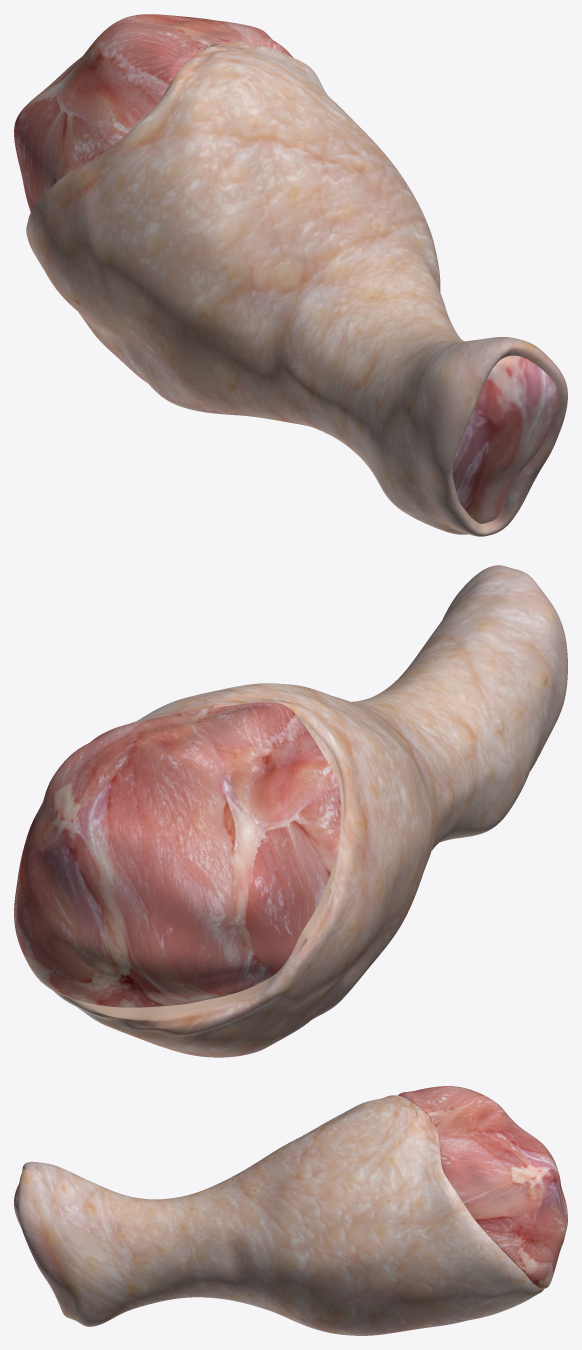
The model's file is drumette.glb.
The picture shows the model from 3 angles, top to bottom: view 1: azimuth 30°, elevation 25°; view 2: azimuth 150°, elevation 25°; view 3: azimuth 270°, elevation 25°; orthographic projection. The views are drawn at different scales.
Visible parts, largest first — view 1: drumette_skin, drumette_muscle; view 2: drumette_muscle, drumette_skin; view 3: drumette_skin, drumette_muscle.
Part boxes in pixels (x1,y1,x2,y2): drumette_skin: (26, 41, 567, 536); drumette_muscle: (14, 14, 558, 523); drumette_muscle: (14, 702, 340, 1007); drumette_skin: (53, 565, 567, 1057); drumette_skin: (18, 1095, 543, 1335); drumette_muscle: (14, 1086, 567, 1288).
Size of the model in its own units: 1.57 by 1.69 by 3.8.
Materials: 2 (2 with a texture image).
